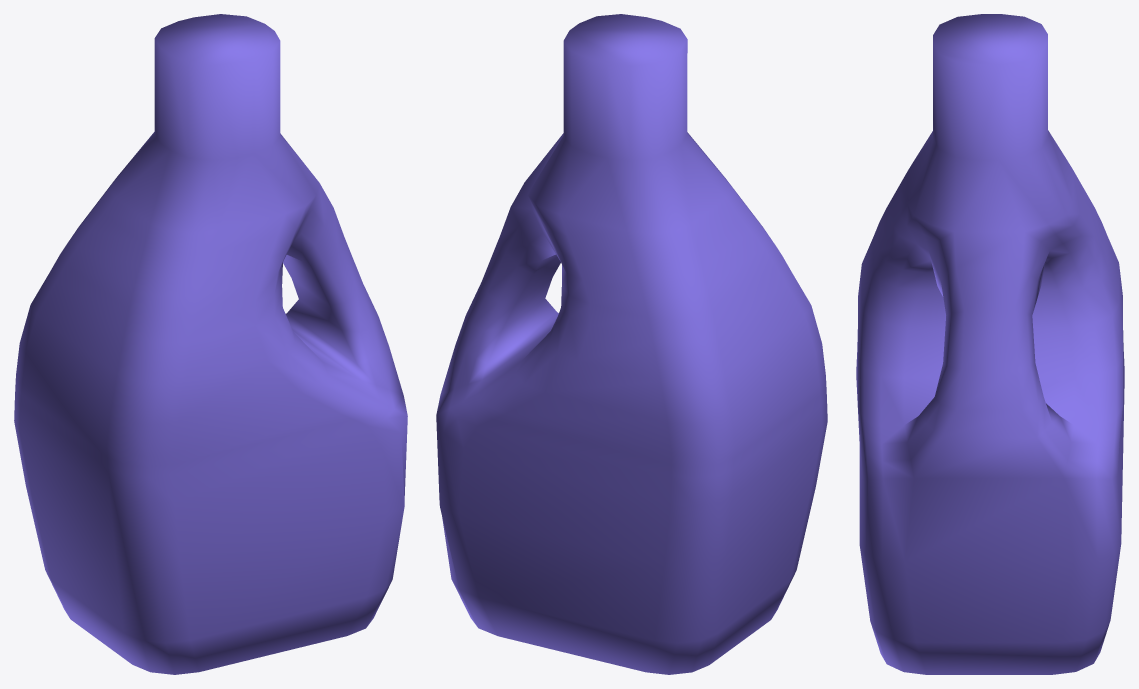
The model's file is candeggina.fbx.
3 renders of one model, left to right at view 1: azimuth 30°, elevation 25°; view 2: azimuth 150°, elevation 25°; view 3: azimuth 270°, elevation 25°, orthographic.
Visible parts, largest first — view 1: Detersivo2; view 2: Detersivo2; view 3: Detersivo2.
Part boxes in pixels (<box>): Detersivo2: <box>14,14,407,674</box>; Detersivo2: <box>436,14,827,674</box>; Detersivo2: <box>856,14,1124,674</box>.
Size of the model in its own units: 241 by 440 by 185.
